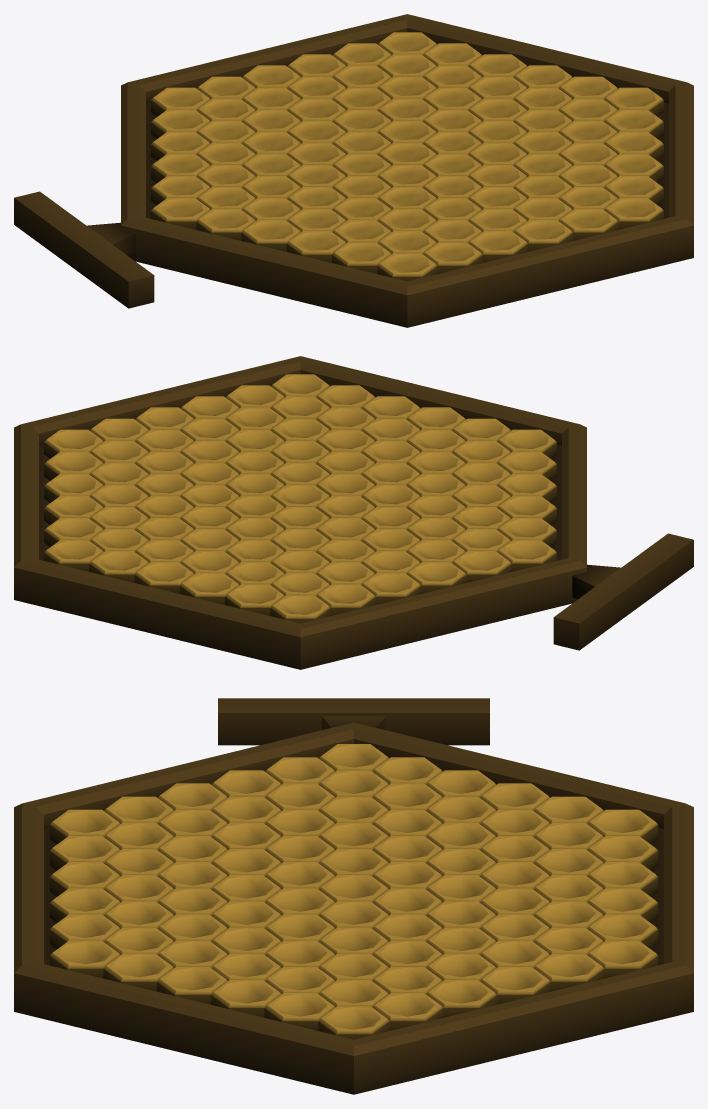
The model's file is board.fbx.
3 views of the same model, one above another, from view 1: azimuth 30°, elevation 25°; view 2: azimuth 150°, elevation 25°; view 3: azimuth 270°, elevation 25° (orthographic). The views are drawn at different scales.
Parts seen in each view (by area): view 1: Circle; view 2: Circle; view 3: Circle.
Boxes of the visible parts, x1,y1,x2,y2 form: Circle: (14,14,693,327); Circle: (14,356,693,669); Circle: (14,698,693,1094).
Size of the model in its own units: 2383 by 137 by 1899.
